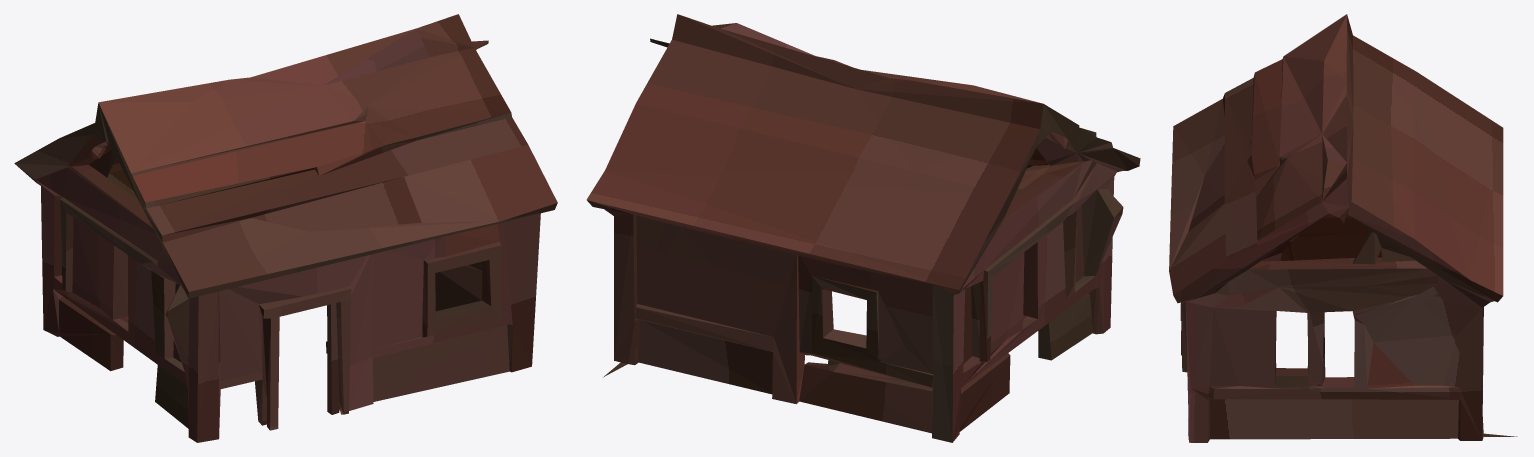
The model's file is barn_3d.glb.
3 renders of one model, left to right at view 1: azimuth 30°, elevation 25°; view 2: azimuth 150°, elevation 25°; view 3: azimuth 270°, elevation 25°, orthographic. The views are drawn at different scales.
Visible parts, largest first — view 1: world; view 2: world; view 3: world.
Boxes of the visible parts, x1,y1,x2,y2 form: world: (14, 14, 557, 442); world: (586, 14, 1140, 442); world: (1169, 14, 1517, 442).
Bounding box in the file's own units: 0.622 × 0.4244 × 0.4998.
Materials: 1 (1 with a texture image).
